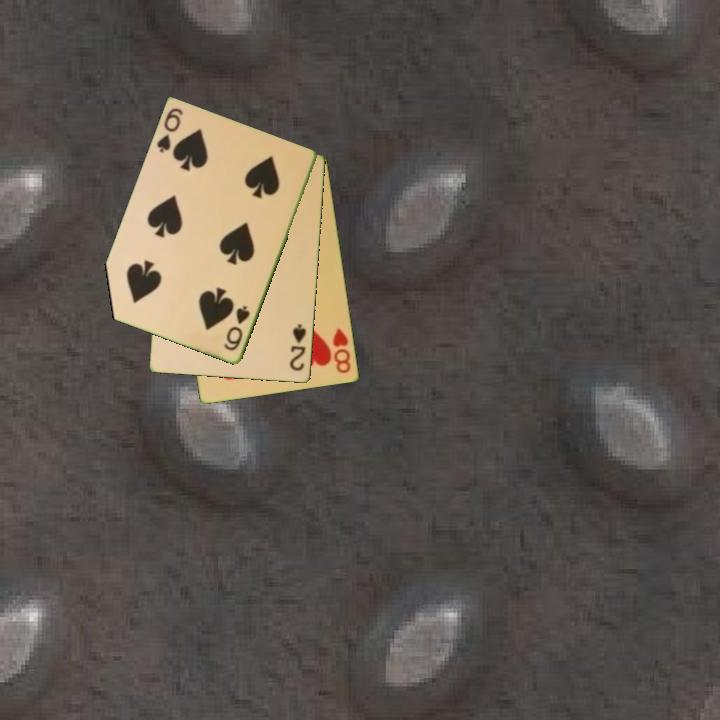2s: (287, 321, 309, 374)
6s: (220, 302, 253, 354), (153, 105, 186, 156)
8h: (329, 324, 354, 377)
